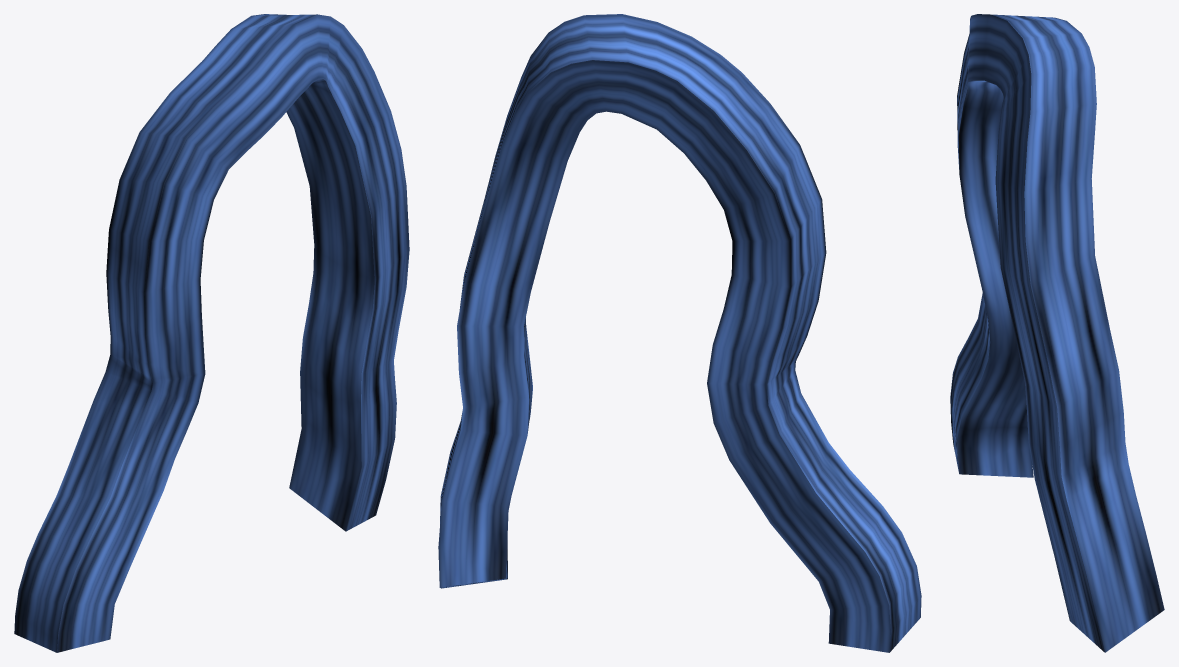
File: Arch1.fbx
3 views of the same model, side by side, from view 1: azimuth 30°, elevation 25°; view 2: azimuth 150°, elevation 25°; view 3: azimuth 270°, elevation 25° (orthographic). The views are drawn at different scales.
Visible parts, largest first — view 1: makevr_0016; view 2: makevr_0016; view 3: makevr_0016.
Boxes of the visible parts, <box> form: makevr_0016: <box>14,14,409,652</box>; makevr_0016: <box>438,14,921,652</box>; makevr_0016: <box>950,14,1164,652</box>.
Bounding box in the file's own units: 172 × 223 × 76.2.
